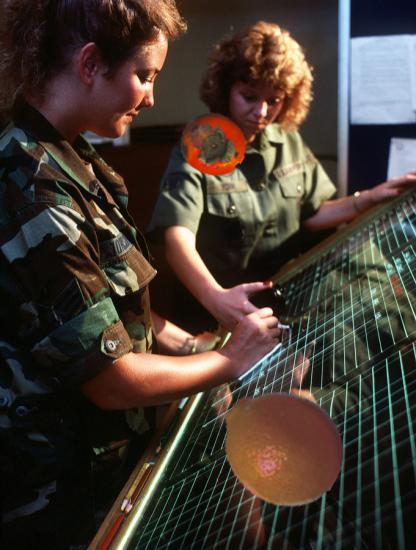Kaki: (181, 111, 248, 178)
Tangelo: (216, 382, 346, 512)
